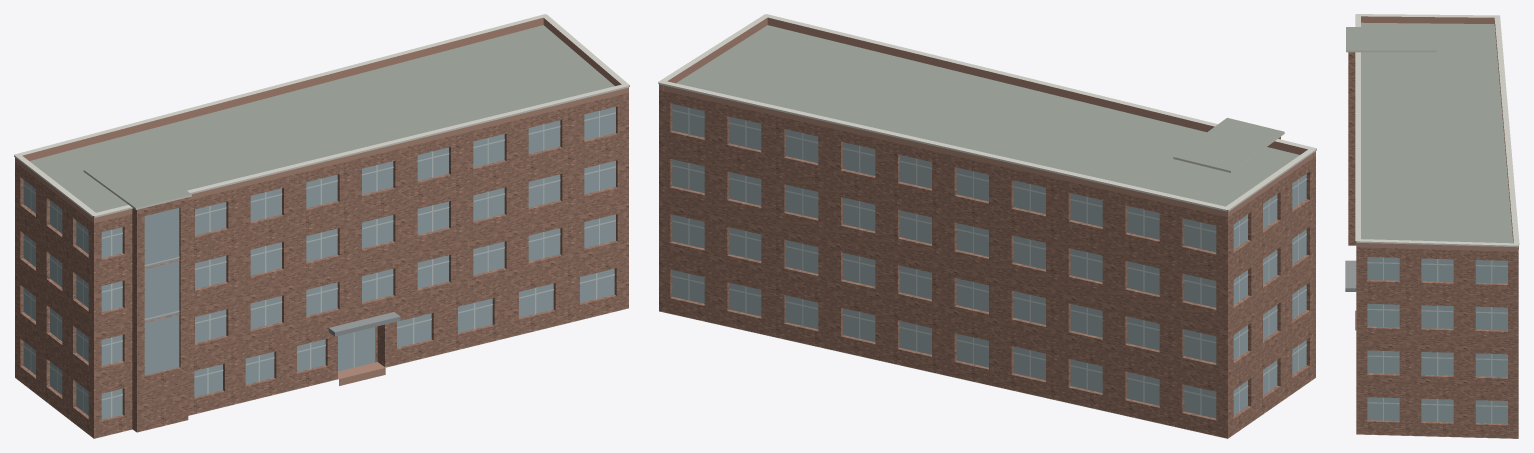
The picture shows the model from 3 angles, left to right: view 1: azimuth 30°, elevation 25°; view 2: azimuth 150°, elevation 25°; view 3: azimuth 270°, elevation 25°; orthographic projection. The views are drawn at different scales.
Parts seen in each view (by area): view 1: rucker__wall, rucker__roof, rucker__glass, rucker__parapet, rucker__trim, rucker__frame, rucker__canopy, rucker__entranceThreshold; view 2: rucker__wall, rucker__roof, rucker__glass, rucker__parapet, rucker__trim, rucker__frame; view 3: rucker__roof, rucker__wall, rucker__glass, rucker__trim, rucker__parapet, rucker__frame, rucker__canopy.
Part boxes in pixels (x1,y1,x2,y2): rucker__wall: [15, 93, 628, 438]; rucker__roof: [15, 25, 628, 438]; rucker__glass: [23, 107, 615, 419]; rucker__parapet: [15, 17, 628, 223]; rucker__trim: [14, 14, 629, 217]; rucker__frame: [23, 110, 615, 417]; rucker__canopy: [328, 312, 400, 336]; rucker__entranceThreshold: [338, 362, 385, 385]; rucker__wall: [659, 90, 1315, 438]; rucker__roof: [659, 25, 1315, 438]; rucker__glass: [672, 104, 1306, 418]; rucker__parapet: [659, 17, 1315, 217]; rucker__trim: [658, 14, 1316, 211]; rucker__frame: [672, 107, 1306, 415]; rucker__roof: [1346, 22, 1518, 438]; rucker__wall: [1348, 52, 1518, 438]; rucker__glass: [1367, 257, 1507, 423]; rucker__trim: [1346, 14, 1519, 247]; rucker__parapet: [1356, 16, 1518, 251]; rucker__frame: [1367, 257, 1507, 423]; rucker__canopy: [1345, 260, 1356, 291].
Bounding box in the file's own units: 35.1 × 14.25 × 11.16.
9 materials, 1 textured.
